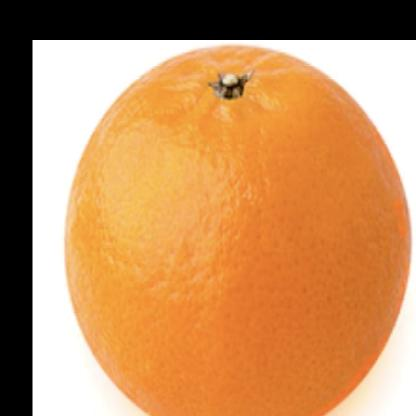fresh: (69, 45, 415, 416)
